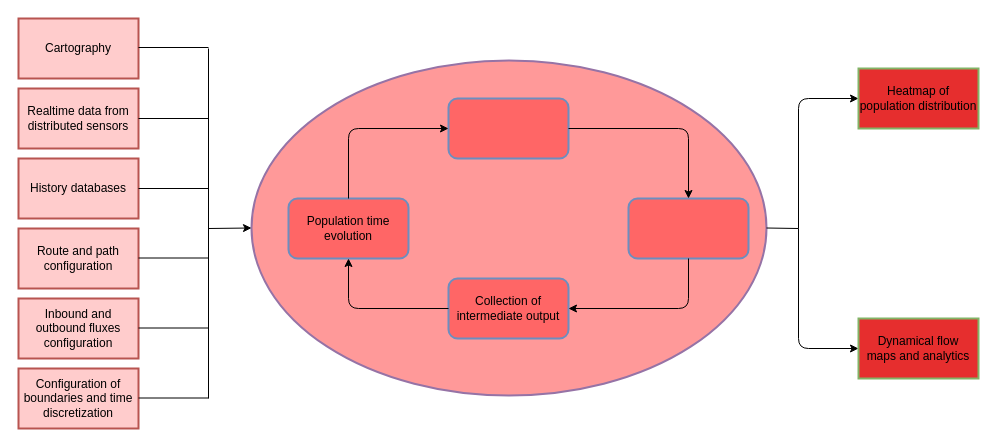
Image size: 996x446. Some labels were removed from this diagram. The centre of each missing label's shape, as x and y in pixels:
"Network time evolution" goes at (x=688, y=228).
"Parameters update" goes at (x=508, y=128).
